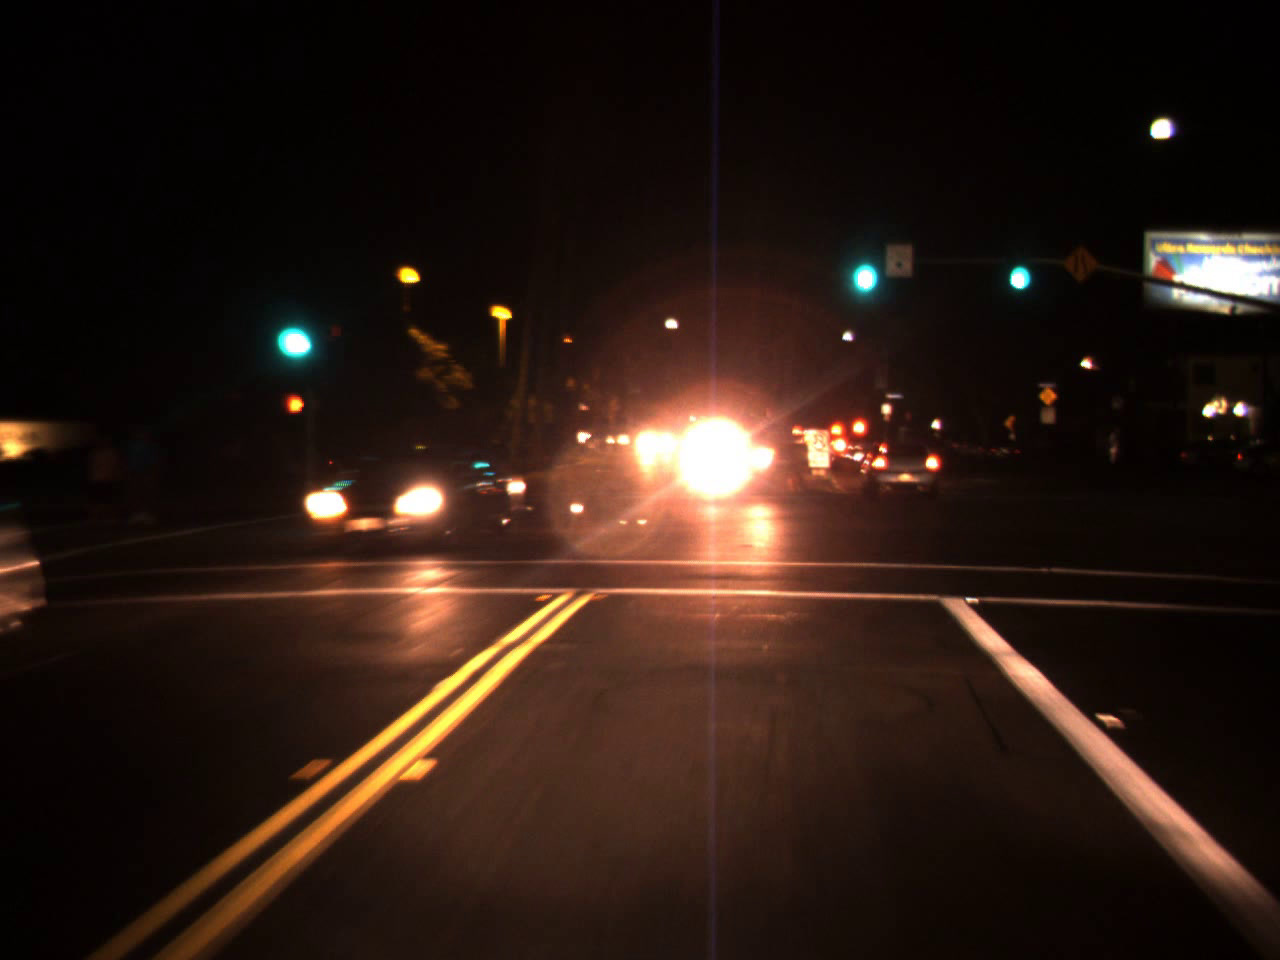go: (268, 289, 318, 370), (843, 224, 882, 305), (1000, 236, 1034, 299)
